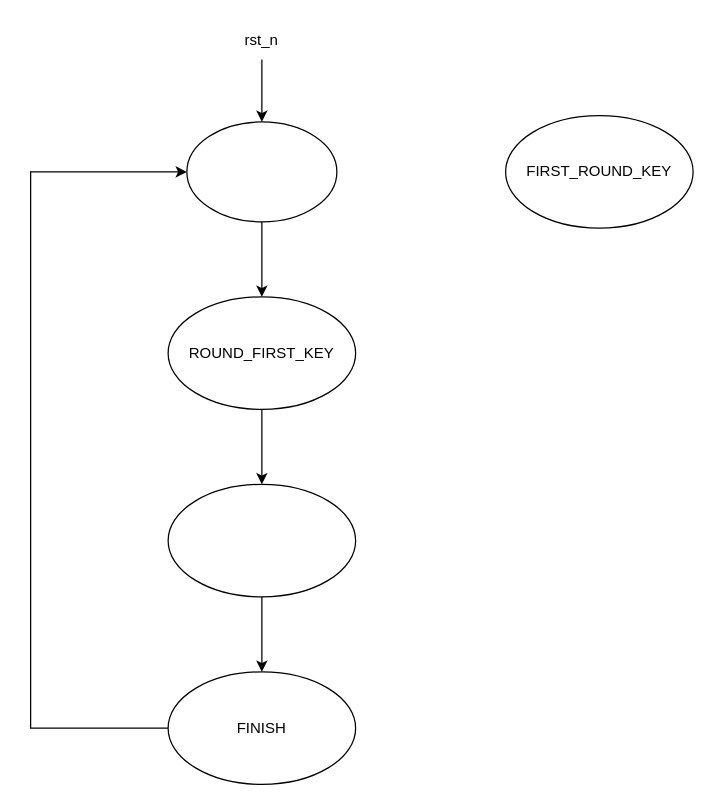
This 715x806 diagram has some shape labels left out. Each missing label, with the centre of its shape:
"IDLE" belongs at (x=261, y=171).
"ROUND_OTHER_KEY" belongs at (x=261, y=540).
